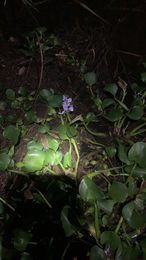water_hyacinth: (3, 73, 146, 259)
